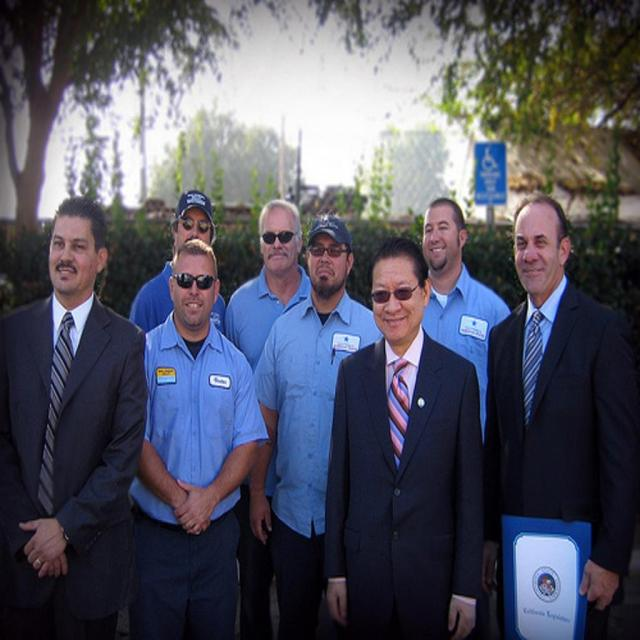Face: (42, 200, 119, 305), (363, 243, 439, 333), (509, 203, 579, 297), (173, 245, 223, 334), (419, 196, 466, 278), (259, 203, 314, 273), (305, 225, 356, 297), (175, 207, 215, 252)
